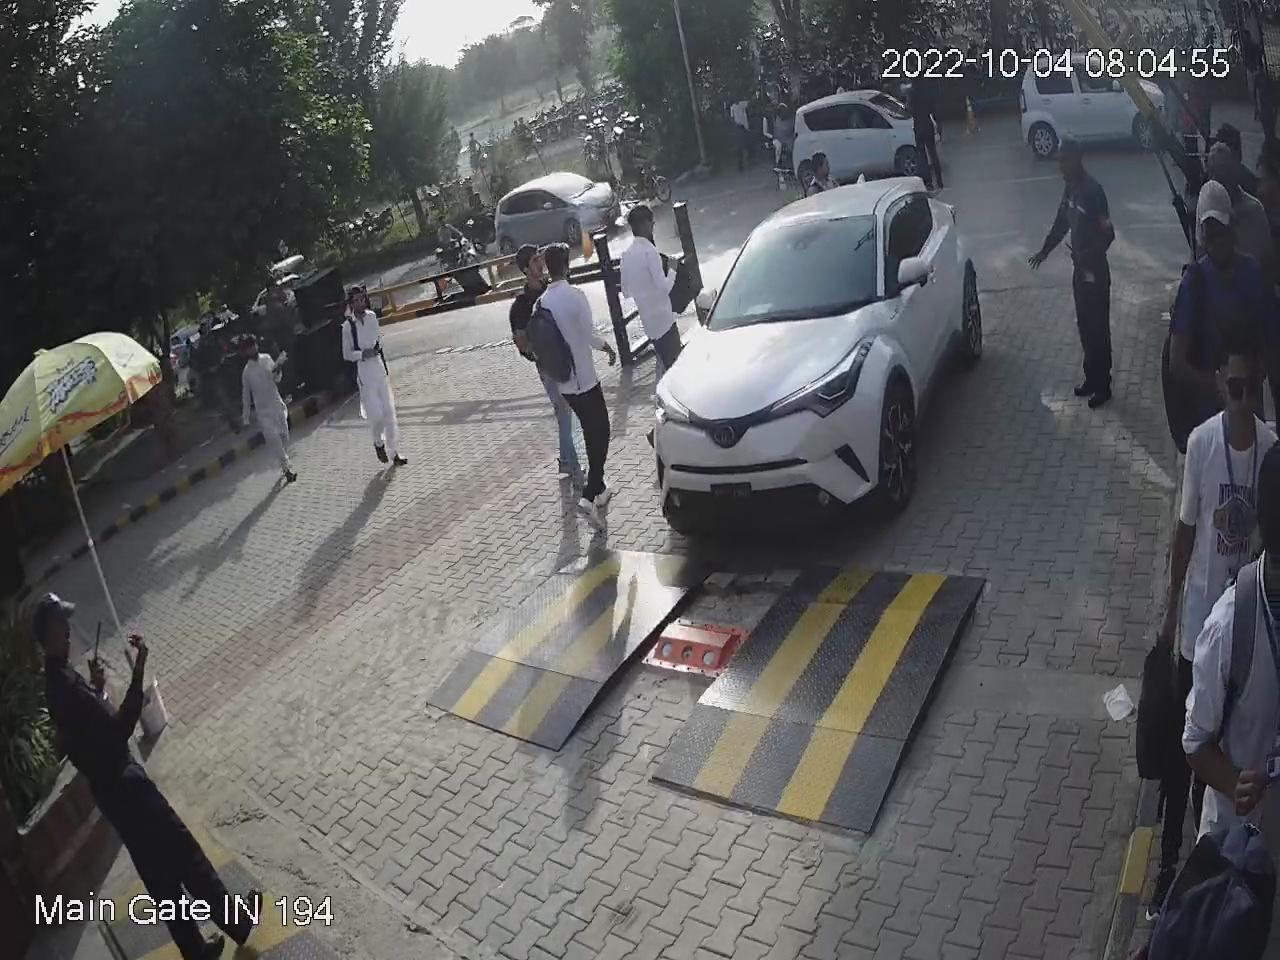windshield: (697, 205, 883, 333)
